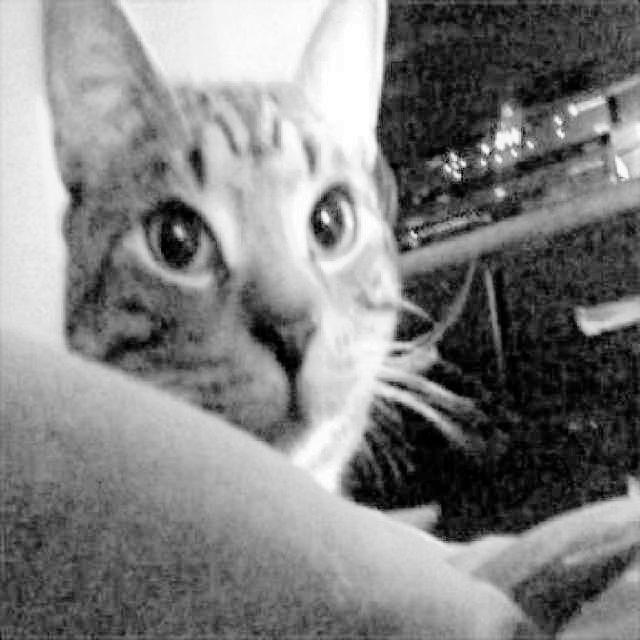Cat: (20, 0, 437, 495)
